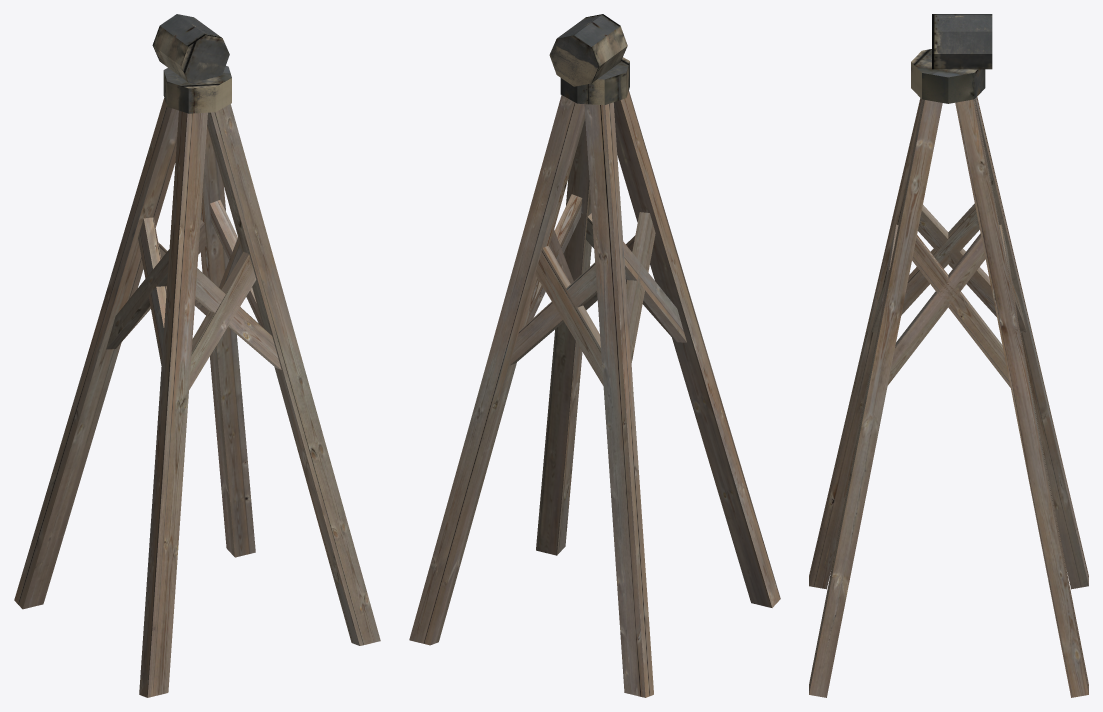
The model's file is windmill.dae.
The picture shows the model from 3 angles, left to right: view 1: azimuth 30°, elevation 25°; view 2: azimuth 150°, elevation 25°; view 3: azimuth 270°, elevation 25°; orthographic projection. The views are drawn at different scales.
Visible parts, largest first — view 1: Plane; view 2: Plane; view 3: Plane.
Part boxes in pixels (<box>): Plane: <box>14,14,380,697</box>; Plane: <box>409,14,780,697</box>; Plane: <box>809,14,1088,697</box>.
Bounding box in the file's own units: 1.82 × 1.81 × 4.44.
Materials: 1 (1 with a texture image).
